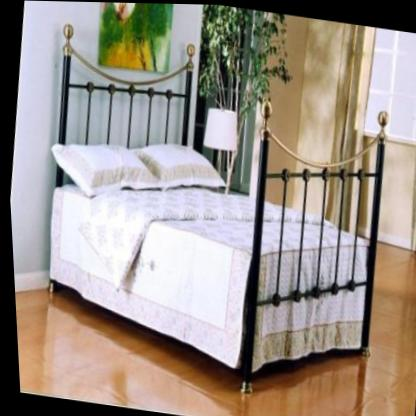Bed: (46, 145, 368, 373)
